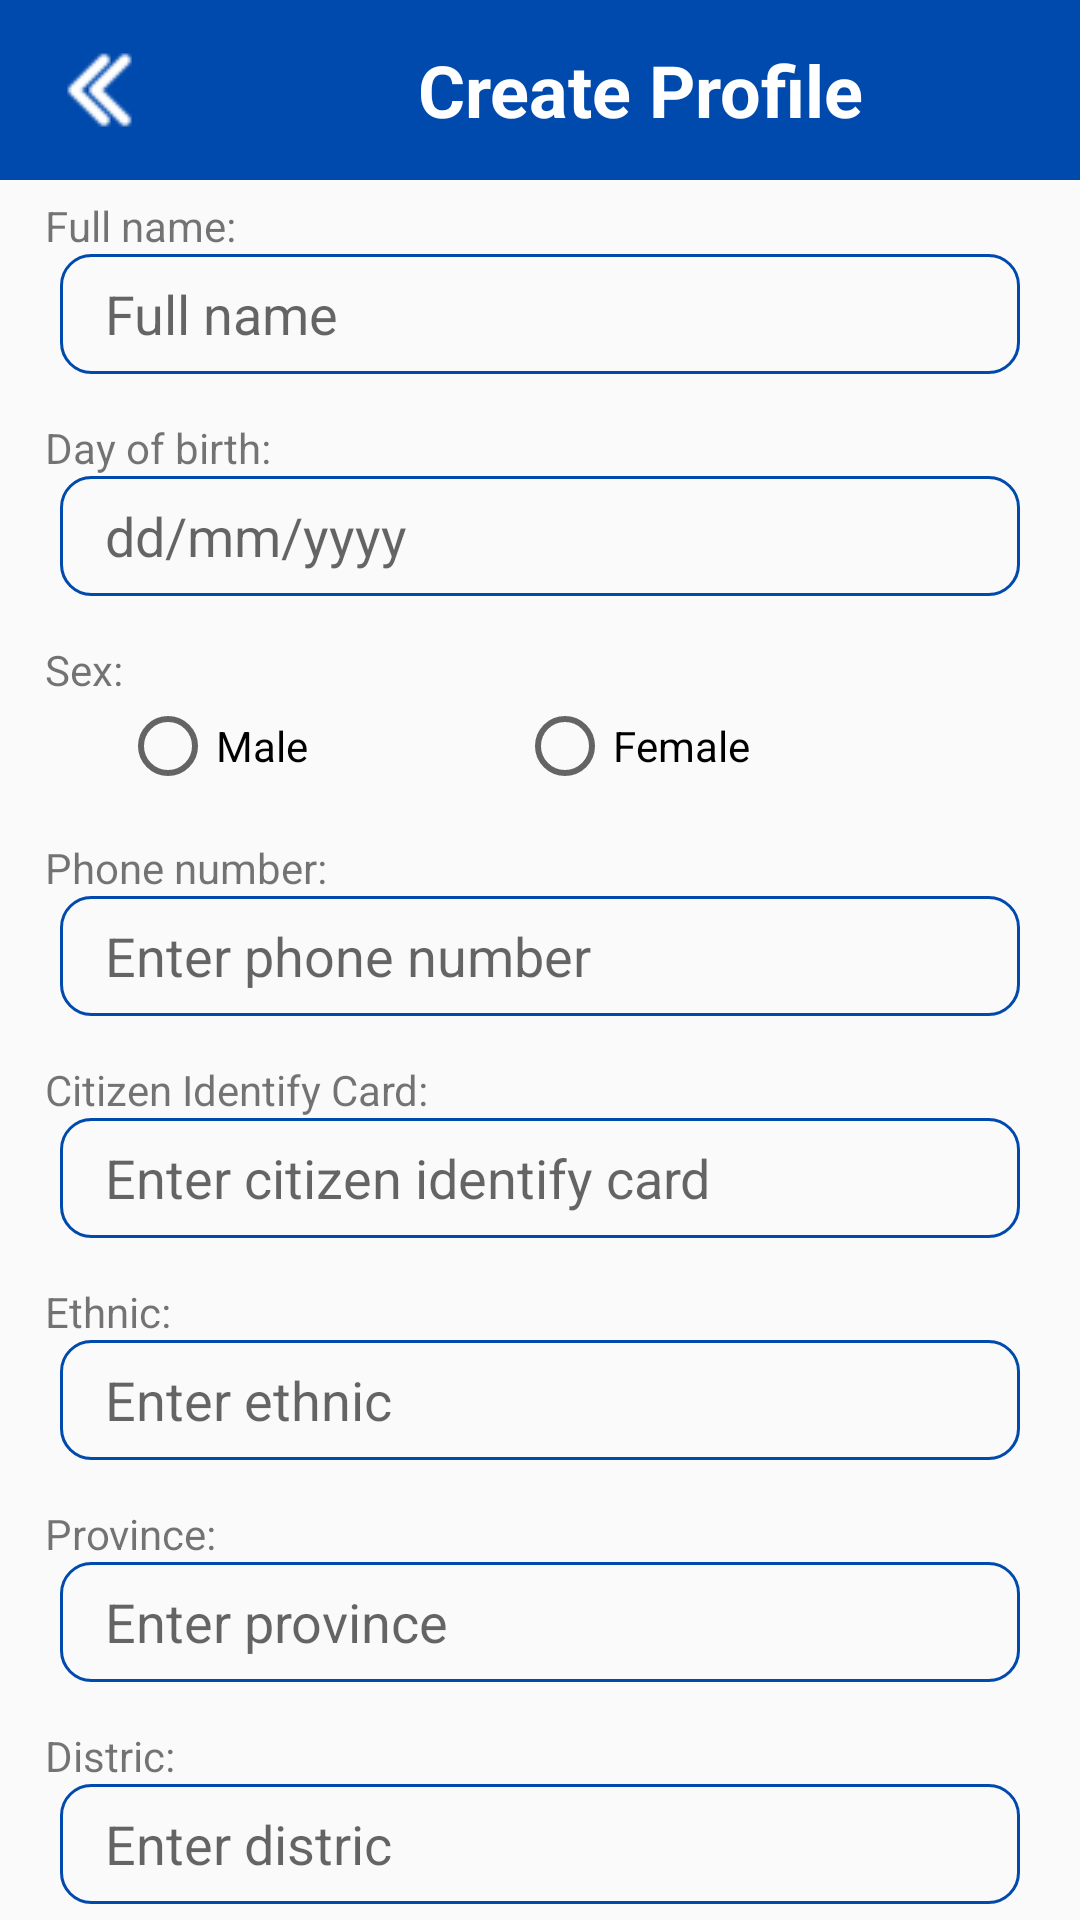

Screen size 1080×1920. Icon name, then its box in pixels as box(x1, y1, x2, y2):
back: box(67, 53, 132, 127)
